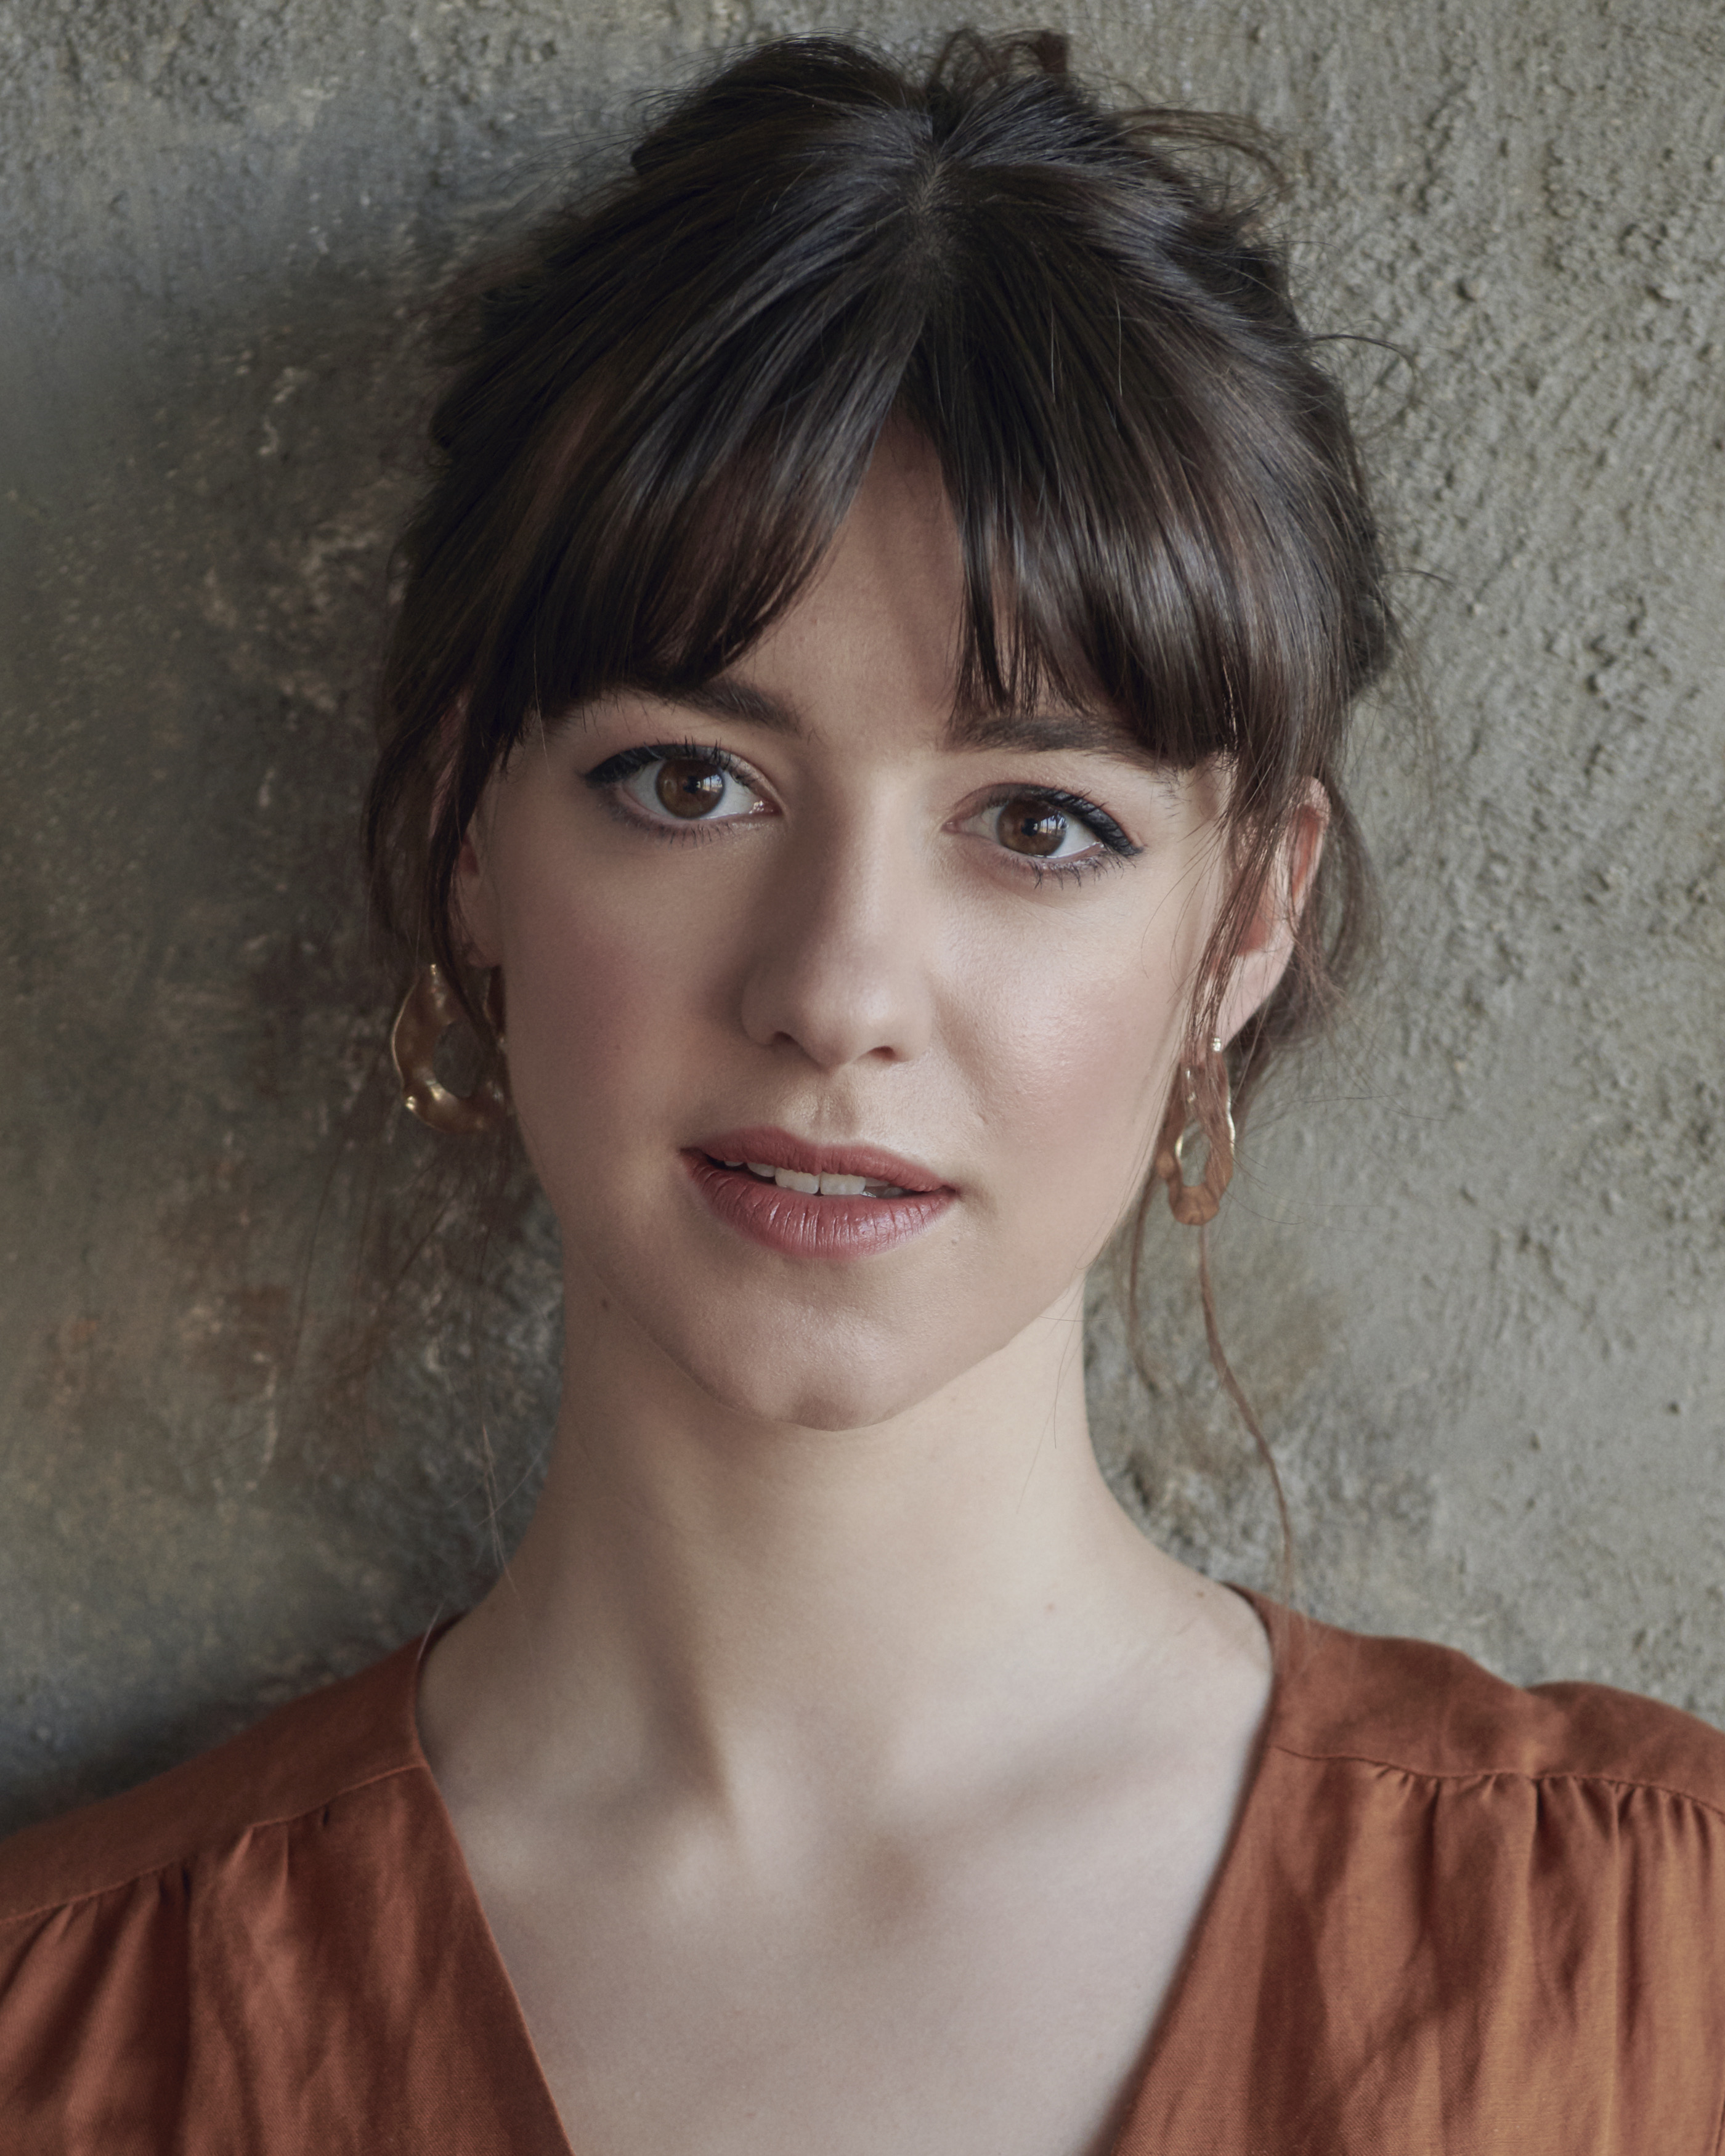NoMask: (530, 640, 1177, 1424)
